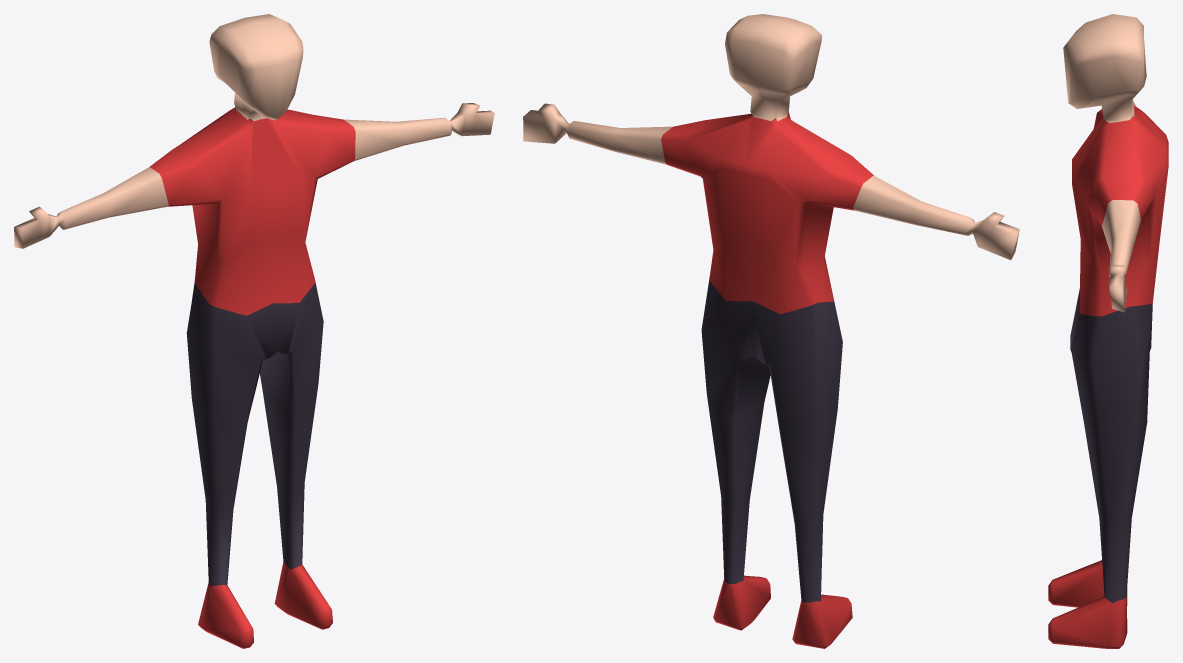
Rendered from Character.fbx.
The picture shows the model from 3 angles, left to right: view 1: azimuth 30°, elevation 25°; view 2: azimuth 150°, elevation 25°; view 3: azimuth 270°, elevation 25°; orthographic projection. The views are drawn at different scales.
Parts seen in each view (by area): view 1: PersonBody; view 2: PersonBody; view 3: PersonBody.
Part boxes in pixels (x1,y1,x2,y2): PersonBody: [14, 14, 494, 648]; PersonBody: [523, 14, 1019, 648]; PersonBody: [1048, 14, 1168, 648].
Bounding box in the file's own units: 128 × 153 × 27.87.
